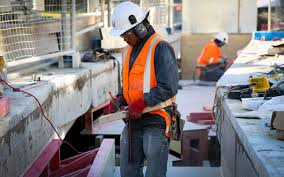hard hat: (108, 1, 150, 37), (213, 31, 229, 45)
high-vis: (121, 33, 170, 115), (197, 39, 222, 65)
